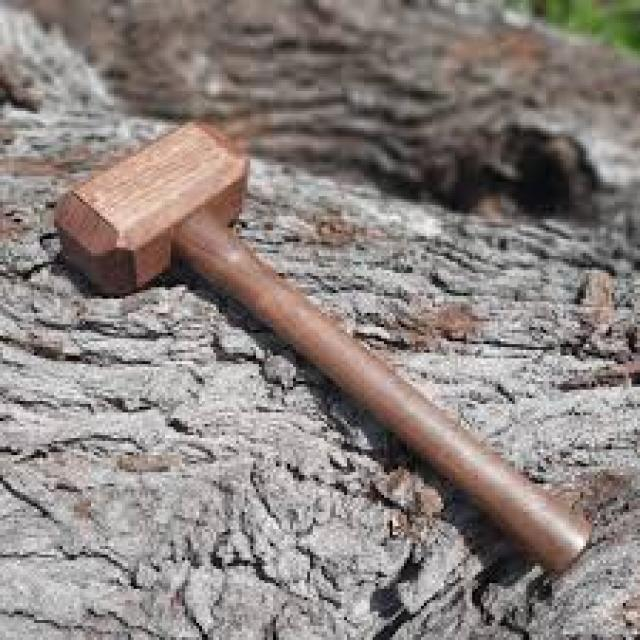hammer: (48, 104, 598, 576)
